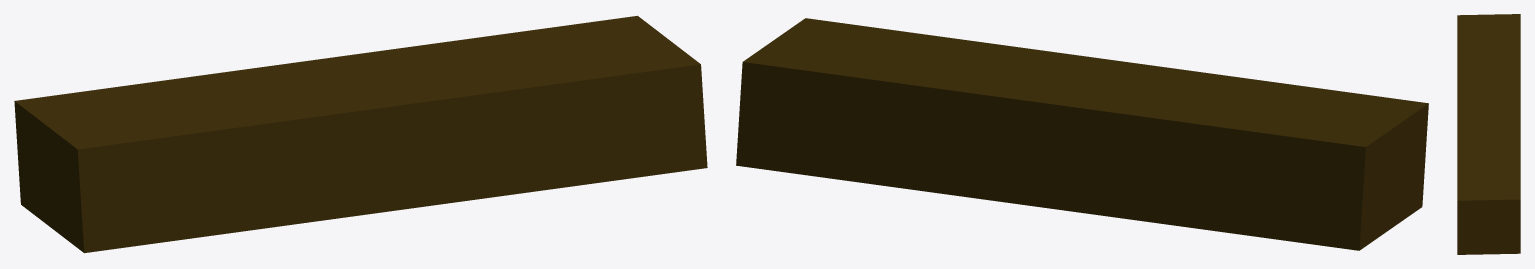
File: PAPAquemada.fbx
3 views of the same model, side by side, from view 1: azimuth 30°, elevation 25°; view 2: azimuth 150°, elevation 25°; view 3: azimuth 270°, elevation 25° (orthographic). The views are drawn at different scales.
Visible parts, largest first — view 1: Cube; view 2: Cube; view 3: Cube.
Boxes of the visible parts, x1,y1,x2,y2 form: Cube: (14, 15, 707, 253); Cube: (736, 18, 1428, 250); Cube: (1457, 14, 1520, 254).
Size of the model in its own units: 204 by 53.91 by 35.34.
